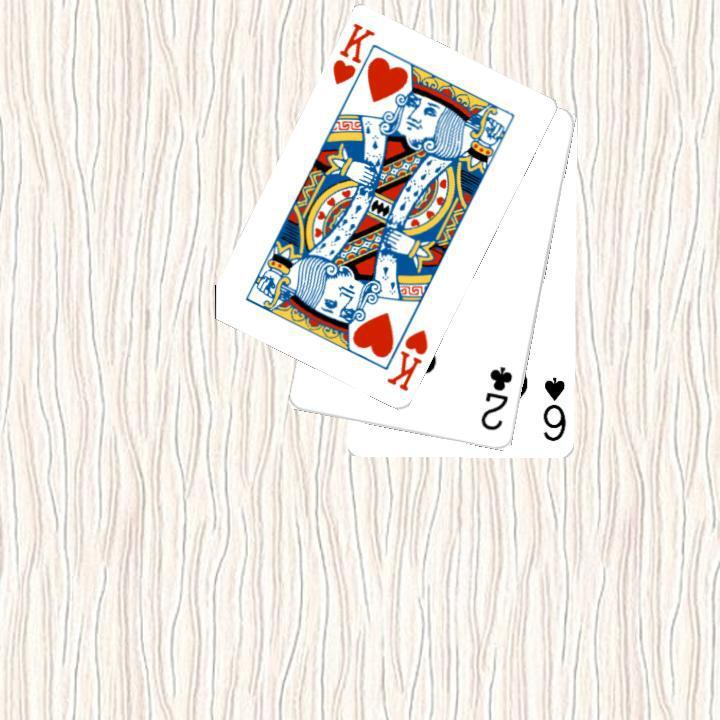2: (477, 363, 515, 433)
6: (539, 372, 568, 444)
K: (328, 19, 378, 87), (382, 325, 431, 394)
